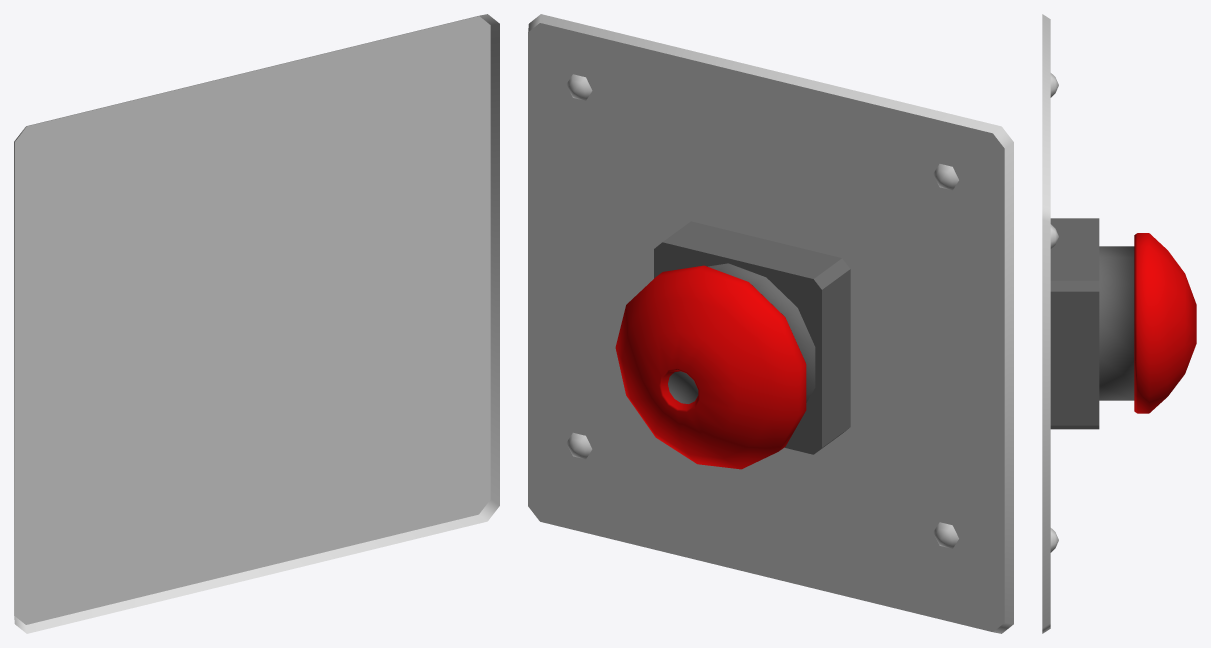
File: StopButton.fbx
3 views of the same model, side by side, from view 1: azimuth 30°, elevation 25°; view 2: azimuth 150°, elevation 25°; view 3: azimuth 270°, elevation 25° (orthographic). The views are drawn at different scales.
Visible parts, largest first — view 1: StopButton; view 2: StopButton; view 3: StopButton.
Part boxes in pixels (box(x1,y1,x2,y2)): StopButton: box(14, 14, 499, 633); StopButton: box(528, 14, 1013, 633); StopButton: box(1042, 14, 1196, 633).
Size of the model in its own units: 24.92 by 24.92 by 8.1.
